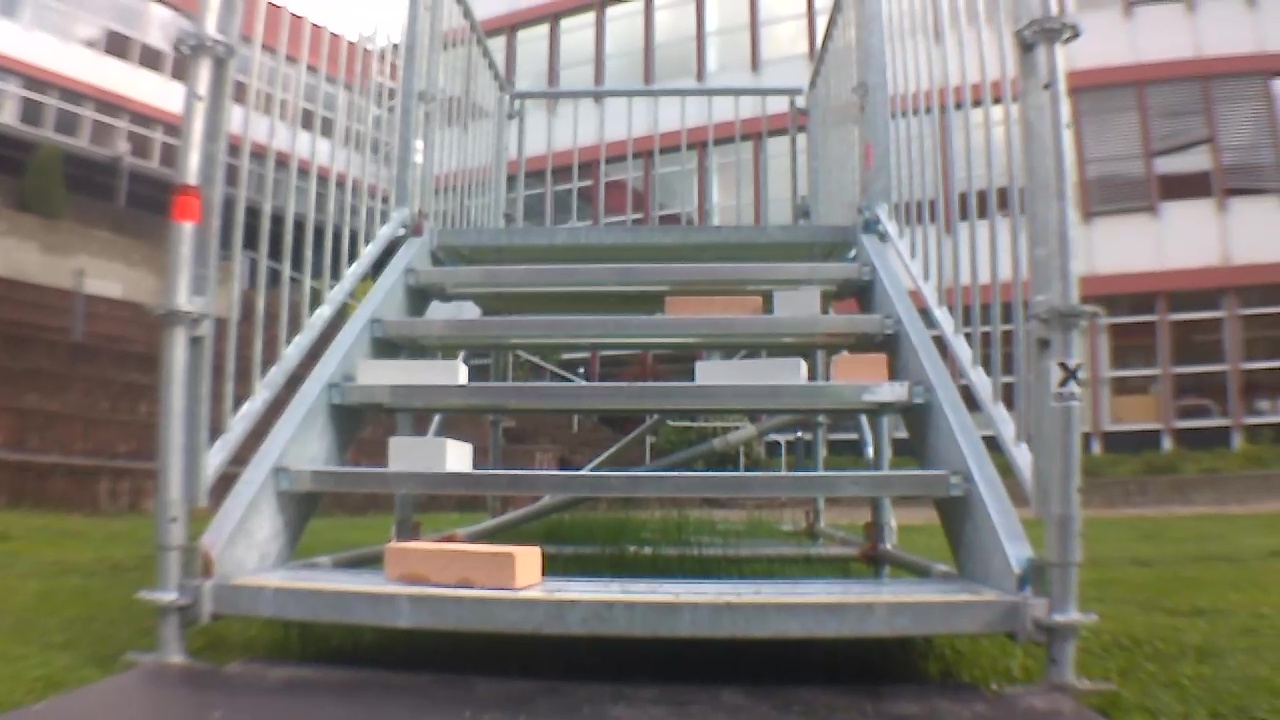brick: (386, 543, 541, 587), (390, 437, 472, 470), (694, 358, 806, 382), (357, 359, 466, 383), (667, 295, 762, 315), (832, 354, 889, 382), (775, 290, 820, 314)
edge: (212, 585, 1016, 635), (277, 468, 965, 495), (331, 383, 925, 408), (373, 315, 901, 335), (410, 262, 876, 281), (437, 224, 857, 243)
stairs: (150, 1, 1105, 692)
steps: (199, 220, 1022, 648)
